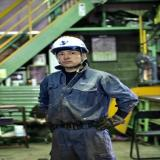Helmet: (49, 36, 88, 53)
